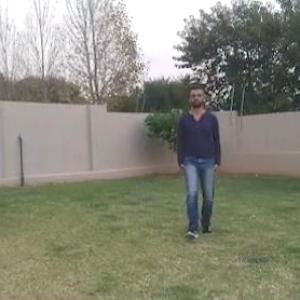follow: (180, 86, 218, 235)
